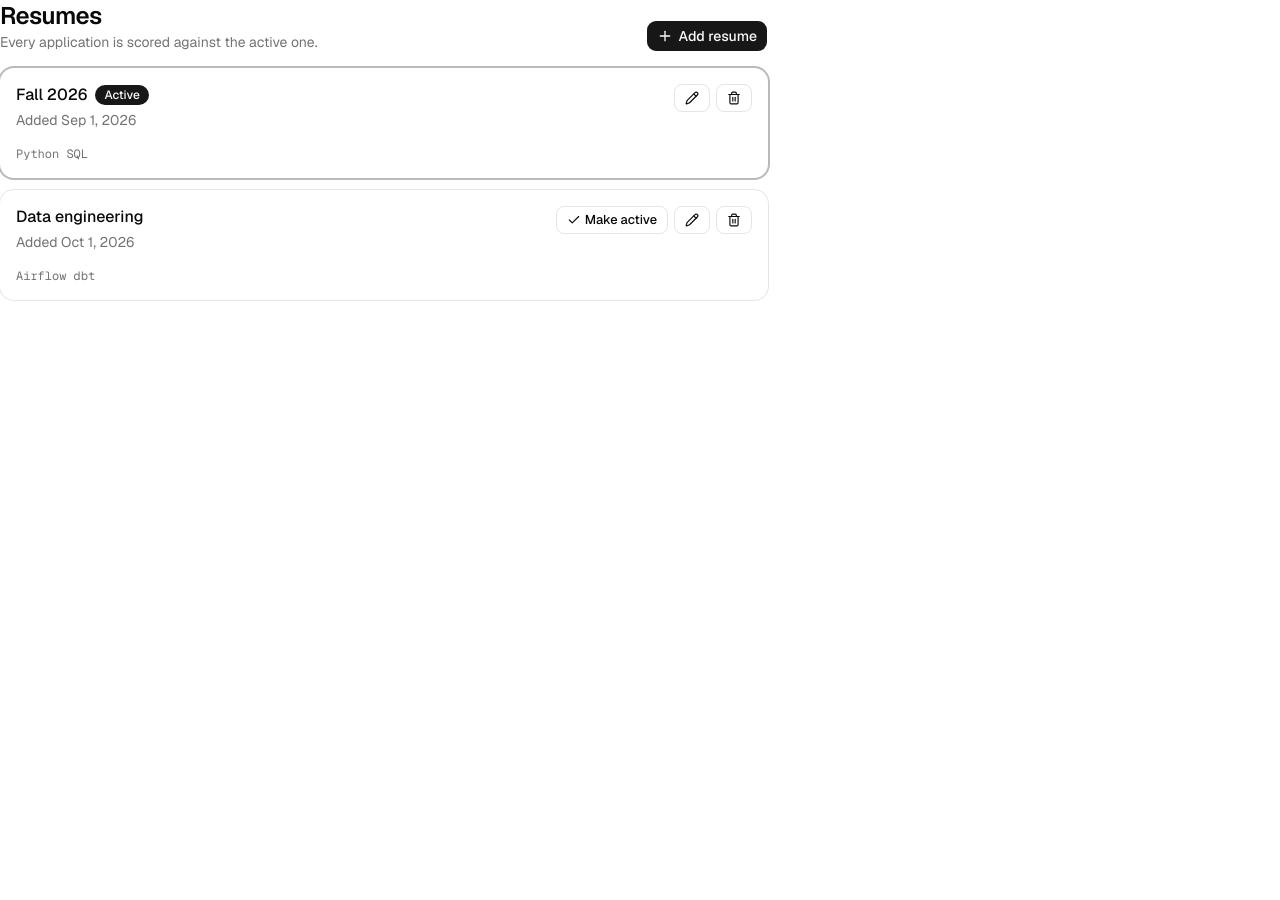
Test: ResumesPage › warns that deleting the active resume removes the scores
Later steps or results of the test are not shown.
What coordinates should you click on to do the following:
click the button named "Delete Fall 2026"
I would click on:
 (734, 98)
Its box is [716, 84, 752, 112].
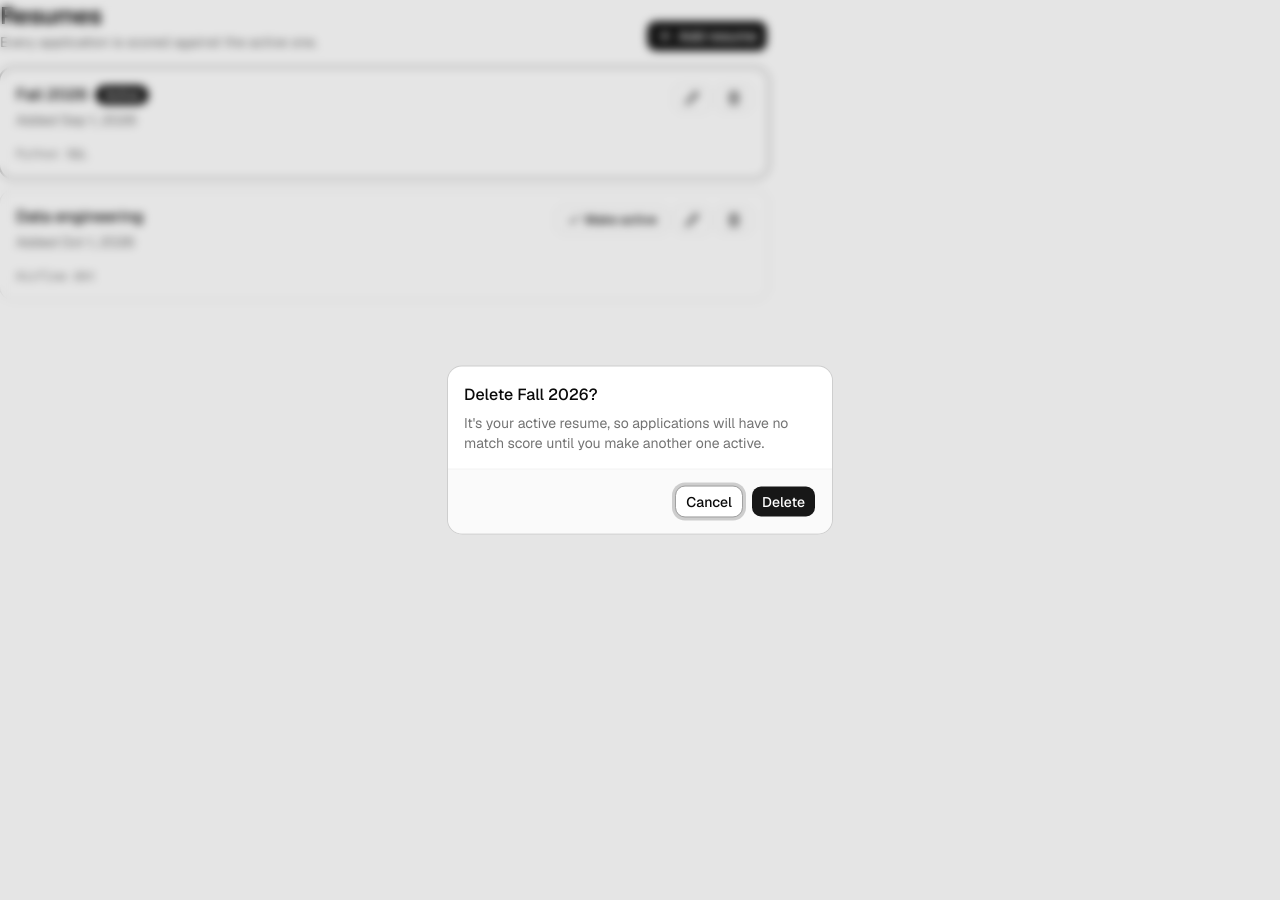
Now the dialog shows "applications will have no match score", box [464, 414, 788, 452]
